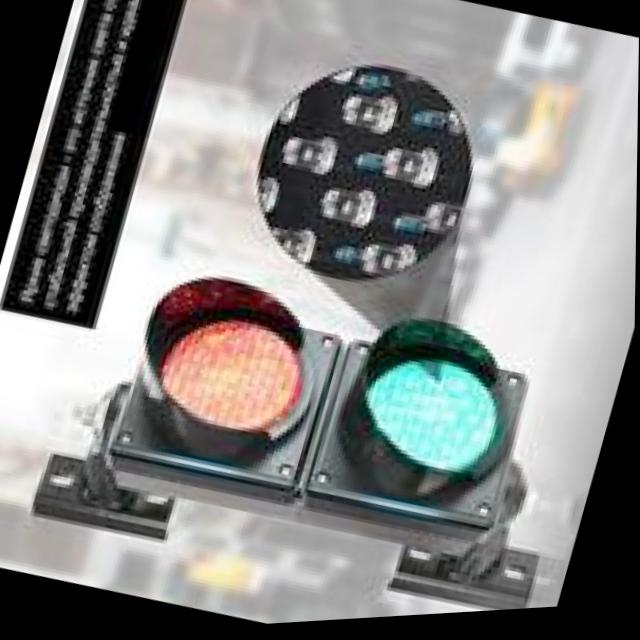green_light: (286, 258, 601, 586)
red_light: (71, 233, 361, 535)
